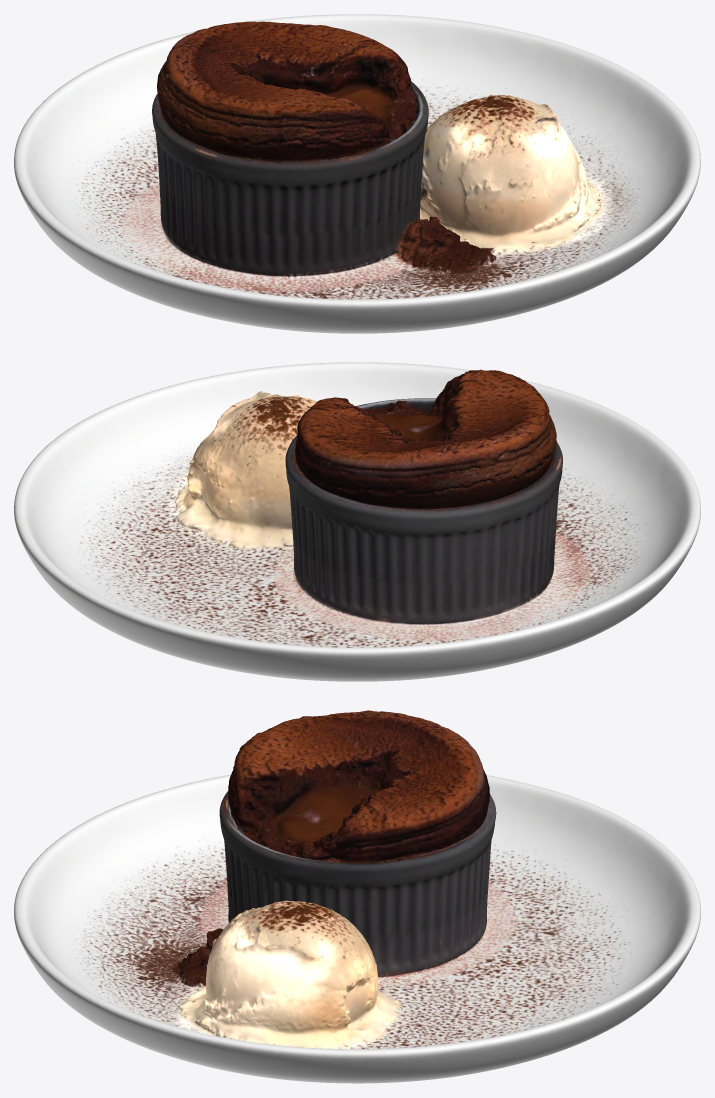
File: souffle-chocolat-meshy.glb
3 views of the same model, one above another, from view 1: azimuth 30°, elevation 25°; view 2: azimuth 150°, elevation 25°; view 3: azimuth 270°, elevation 25° (orthographic).
Size of the model in its own units: 1.9 by 0.5933 by 1.9.
Materials: 1 (1 with a texture image).
